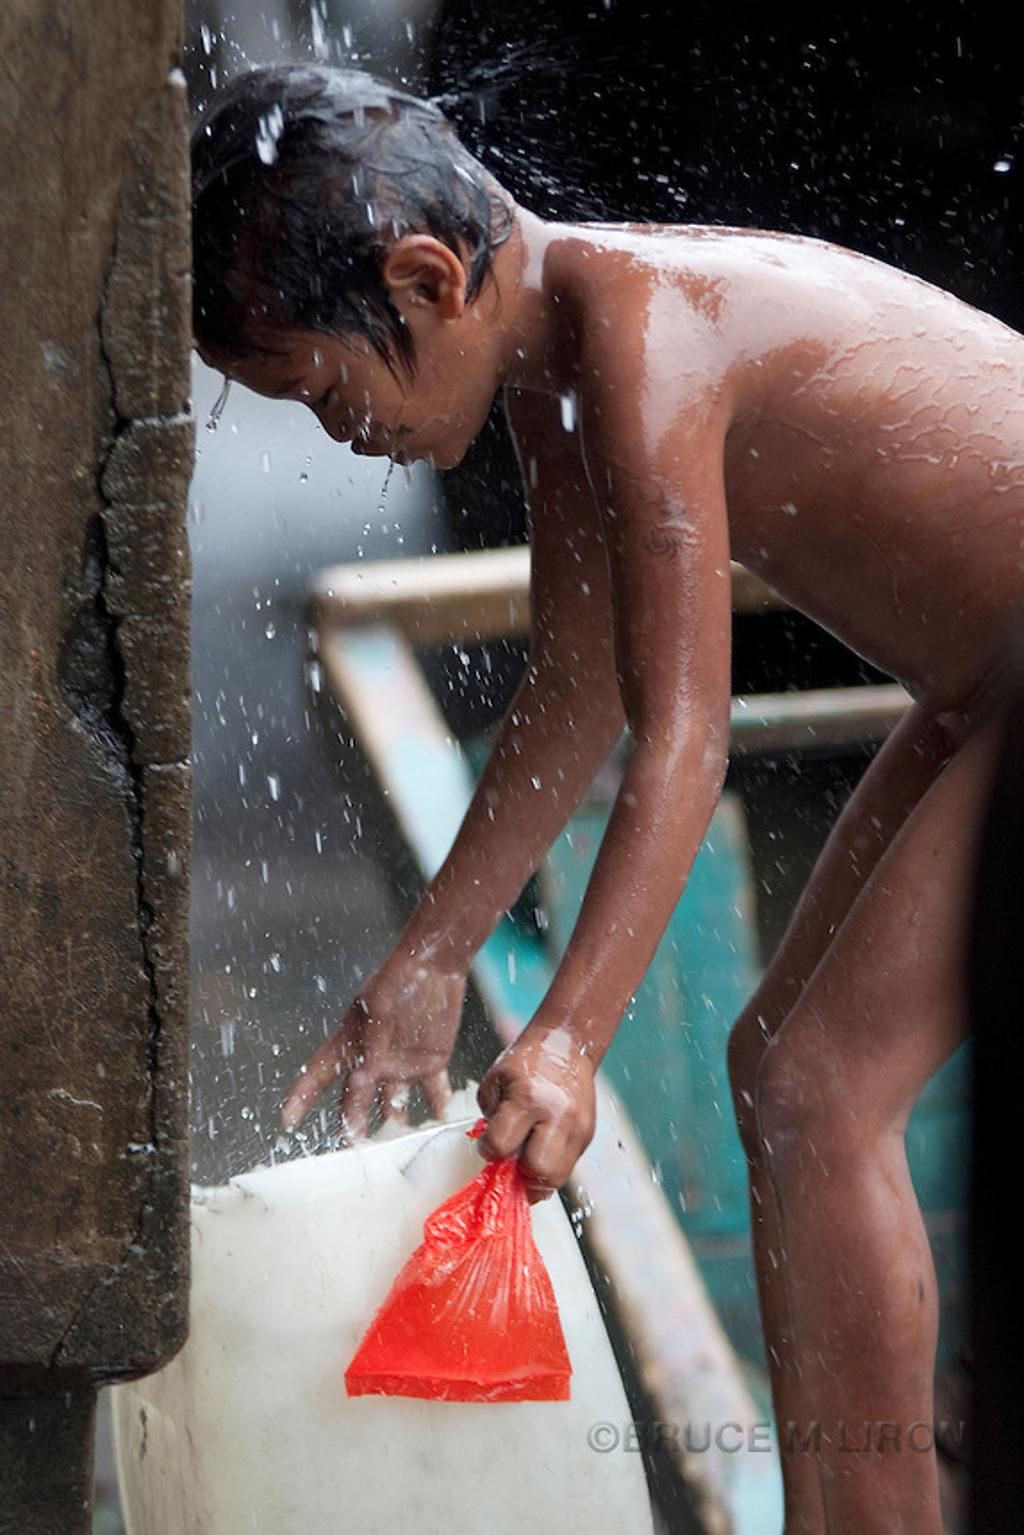face: (195, 219, 473, 476)
